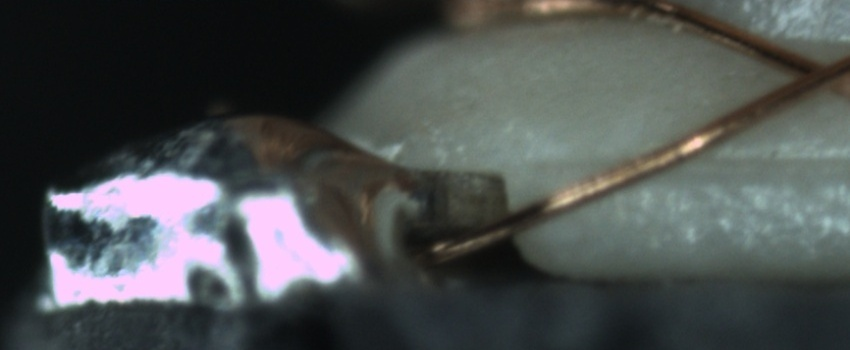CL: (768, 43, 848, 101)
DL: (549, 131, 850, 196)
